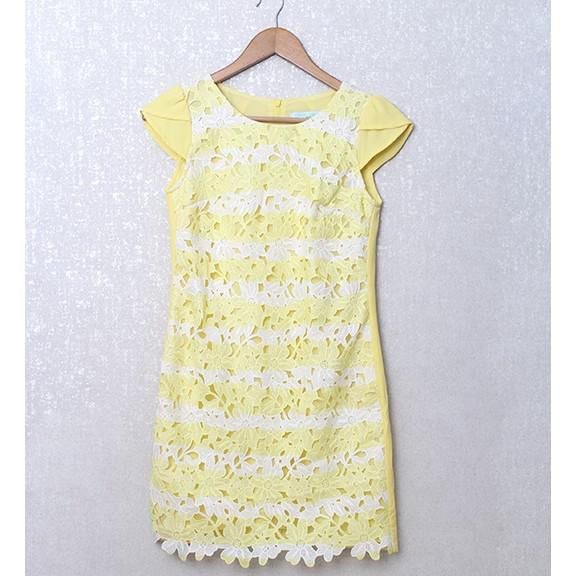Dresses: (148, 68, 404, 558)
